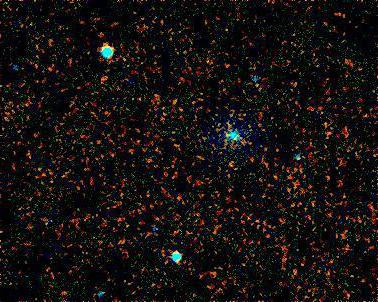star: (45, 278, 75, 302)
